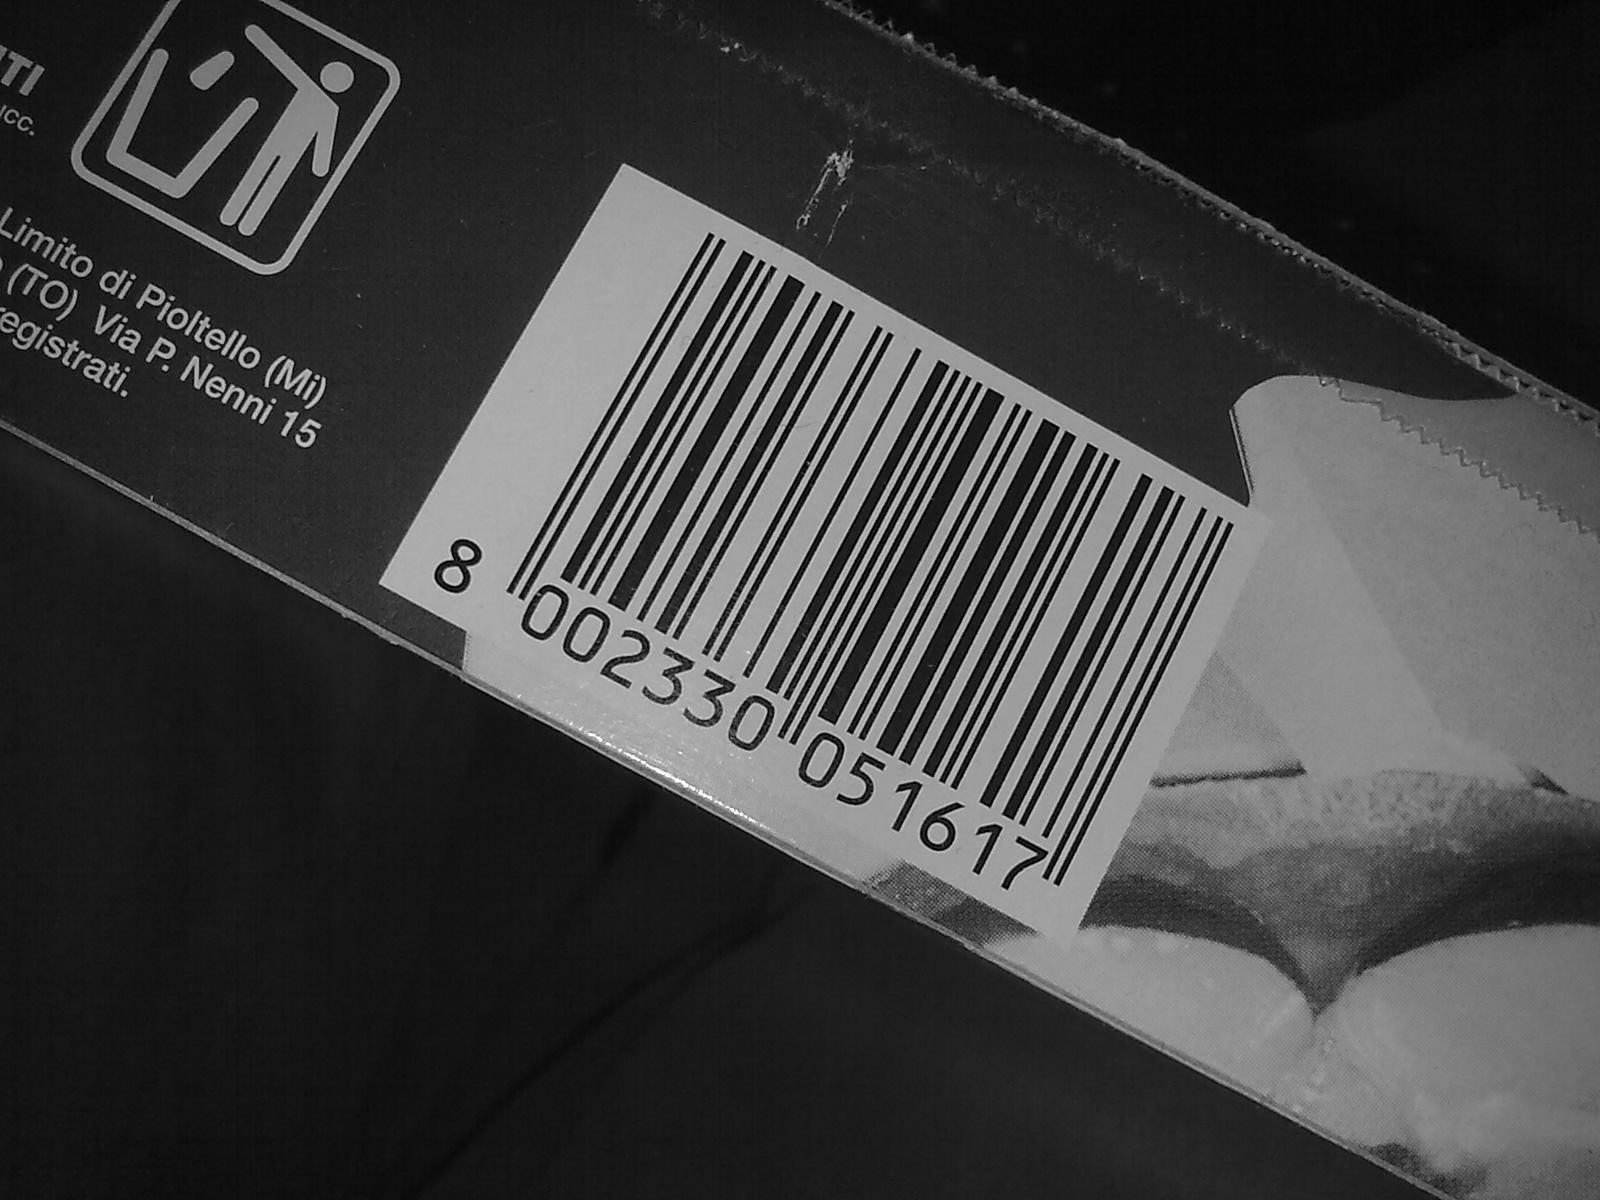Barcode: (538, 207, 1288, 915)
